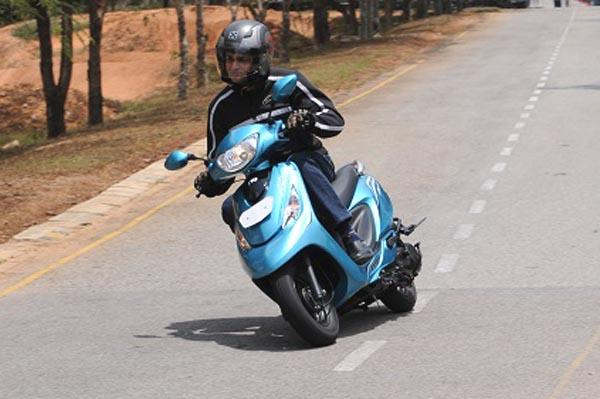helmet: (215, 22, 273, 81)
